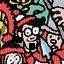waldo: (13, 9, 45, 49)
